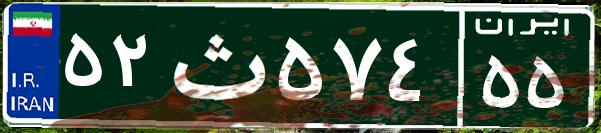2: (110, 28, 158, 105)
4: (385, 28, 445, 110)
5: (273, 28, 330, 110), (57, 26, 110, 107), (475, 38, 525, 113), (525, 38, 570, 115)
7: (330, 28, 385, 110)
ث: (158, 15, 273, 115)
